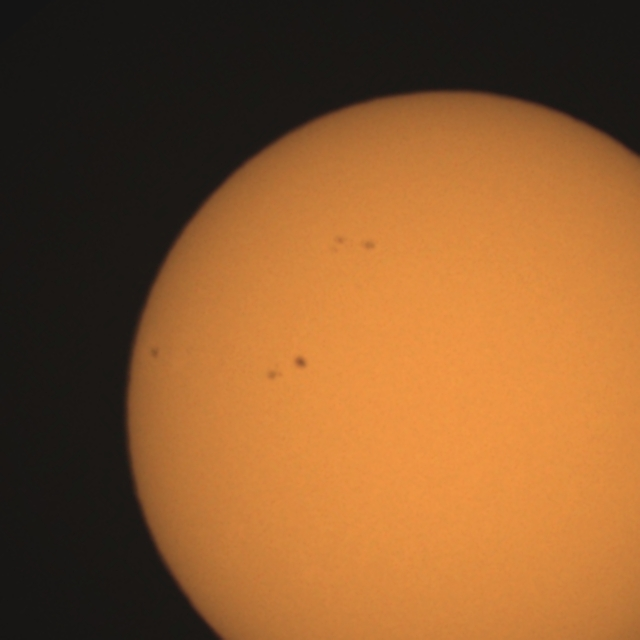sunspot: (328, 233, 378, 258), (263, 354, 307, 382), (330, 233, 349, 256), (264, 364, 285, 384), (291, 354, 309, 372), (360, 238, 378, 254), (147, 344, 161, 361)
